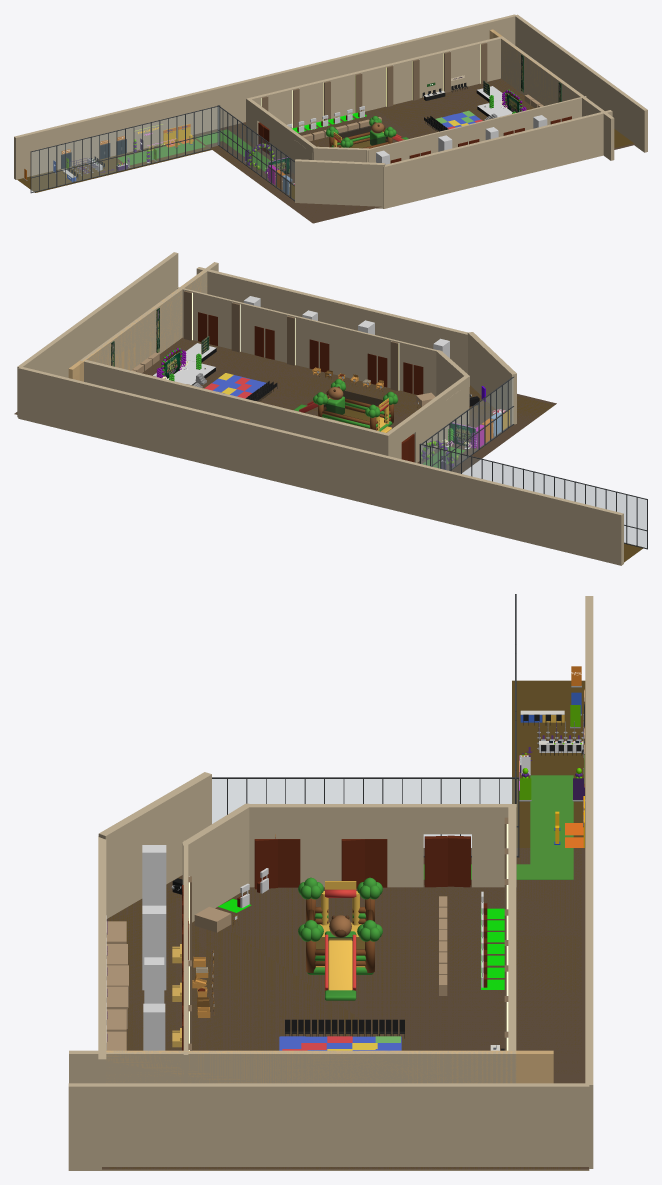
File: tot-manila-v2.glb
3 views of the same model, one above another, from view 1: azimuth 30°, elevation 25°; view 2: azimuth 150°, elevation 25°; view 3: azimuth 270°, elevation 25° (orthographic). The views are drawn at different scales.
Visible parts, largest first — view 1: Top Wall.001, Bottom Wall.001, Top Wall.002, Glass Wall, Floor, Right Wall.001, Left Wall.002, Bottom Wall.003, Right Wall, Floor.001, Glass Wall West, Left Wall (+10 smaller); view 2: Top Wall.001, Bottom Wall.003, Floor, Top Wall.002, Bottom Wall.001, Right Wall.001, Glass Wall, Right Wall, Floor.001, Glass Wall West, Left Wall, Left Wall.002 (+9 smaller); view 3: Floor, Right Wall.001, Floor.001, Right Wall, Left Wall, Glass Wall West, Right Wall.002, Left Wall.002, Floor.002, Bottom Wall.002, Top Wall.001, Grass Carpet Runway 1 (+14 smaller).
Boxes of the visible parts, bbox=[...] form: Top Wall.001: bbox=[14, 14, 515, 179]; Bottom Wall.001: bbox=[383, 110, 612, 208]; Top Wall.002: bbox=[247, 37, 500, 128]; Glass Wall: bbox=[31, 107, 218, 191]; Floor: bbox=[192, 78, 635, 223]; Right Wall.001: bbox=[514, 14, 647, 152]; Left Wall.002: bbox=[295, 159, 385, 208]; Bottom Wall.003: bbox=[366, 96, 586, 163]; Right Wall: bbox=[500, 36, 614, 160]; Floor.001: bbox=[195, 79, 633, 217]; Glass Wall West: bbox=[218, 107, 294, 199]; Left Wall: bbox=[246, 98, 315, 173]; Top Wall.001: bbox=[18, 367, 623, 565]; Bottom Wall.003: bbox=[177, 287, 442, 396]; Floor: bbox=[14, 337, 556, 473]; Top Wall.002: bbox=[83, 360, 388, 454]; Bottom Wall.001: bbox=[196, 267, 467, 373]; Right Wall.001: bbox=[17, 252, 178, 417]; Glass Wall: bbox=[421, 445, 646, 547]; Right Wall: bbox=[80, 262, 218, 380]; Floor.001: bbox=[144, 339, 554, 432]; Glass Wall West: bbox=[421, 378, 513, 469]; Left Wall: bbox=[384, 376, 467, 462]; Left Wall.002: bbox=[467, 332, 516, 424]; Floor: bbox=[102, 848, 588, 1169]; Right Wall.001: bbox=[68, 1083, 589, 1170]; Floor.001: bbox=[109, 848, 581, 1169]; Right Wall: bbox=[69, 1050, 516, 1083]; Left Wall: bbox=[249, 804, 516, 887]; Glass Wall West: bbox=[212, 779, 517, 855]; Right Wall.002: bbox=[106, 1050, 553, 1083]; Left Wall.002: bbox=[98, 772, 211, 918]; Floor.002: bbox=[512, 680, 585, 847]; Bottom Wall.002: bbox=[182, 803, 253, 922]; Top Wall.001: bbox=[585, 596, 593, 1168]; Grass Carpet Runway 1: bbox=[530, 775, 573, 847].
Bounding box in the file's own units: 97.45 × 8.01 × 43.55.
686 materials, 5 textured.
